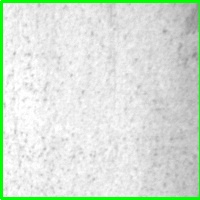pitted_surface: (1, 1, 200, 198)
